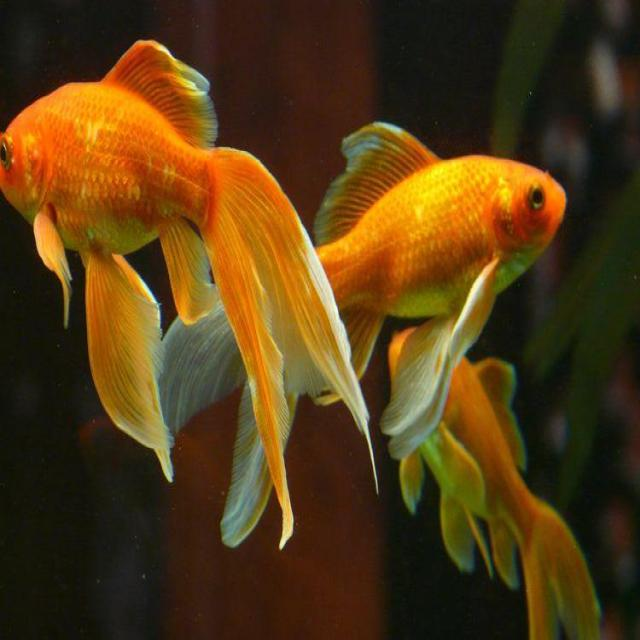GoldFish: (0, 28, 381, 577), (389, 322, 605, 640)
